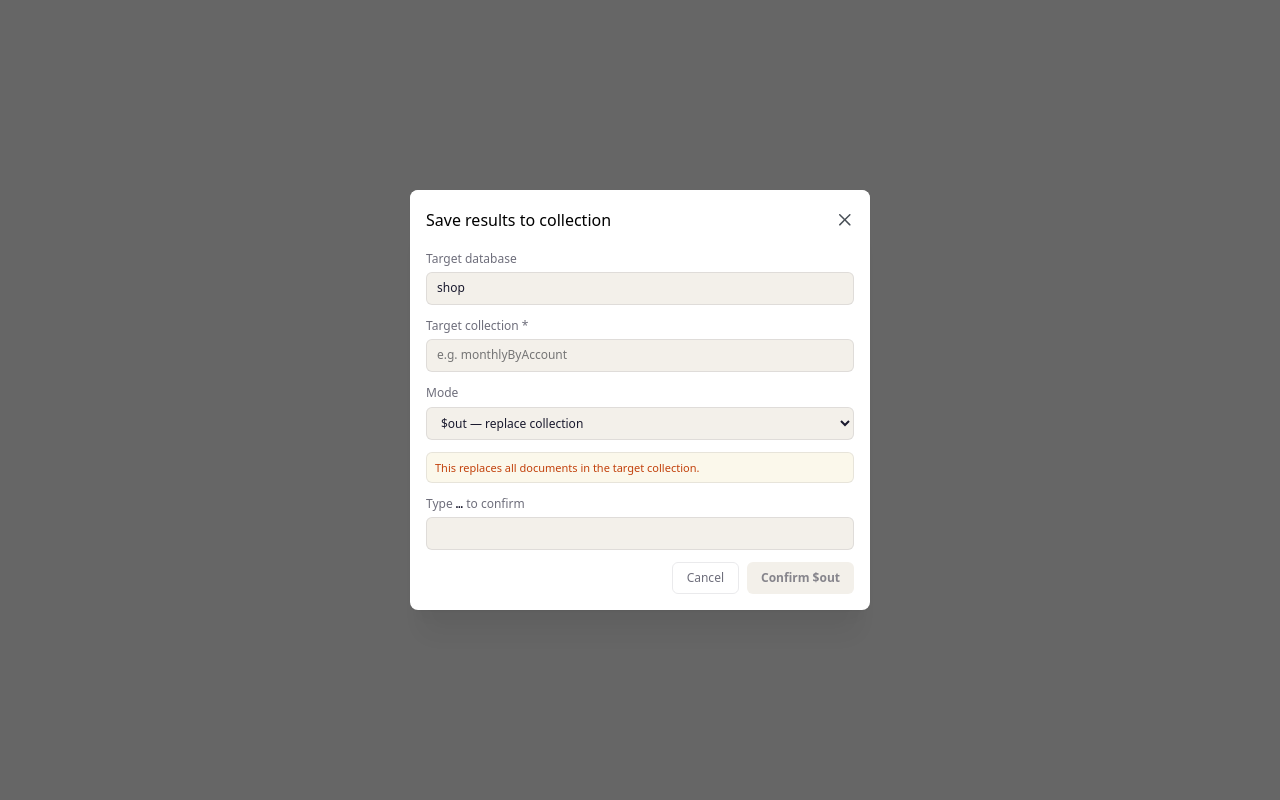
Scenario: SaveAsCollectionModal — dialog shell + guard (X15 T6) › Escape with a typed target prompts, and Cancel leaves the text intact
Type "monthlyByAccount" into the field labelled "Target collection *".
click(640, 356); type("monthlyByAccount")  # box top-left (426, 339), bottom-right (854, 372)
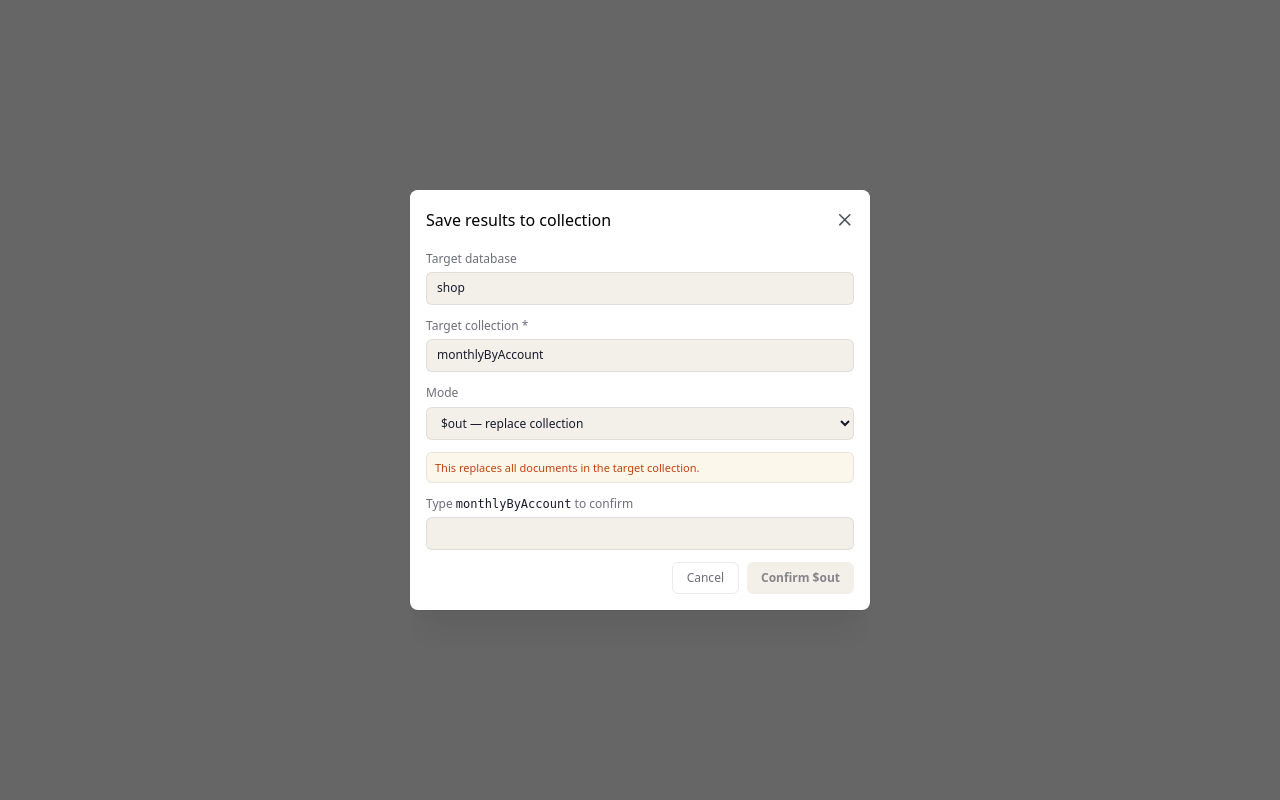
Press Escape
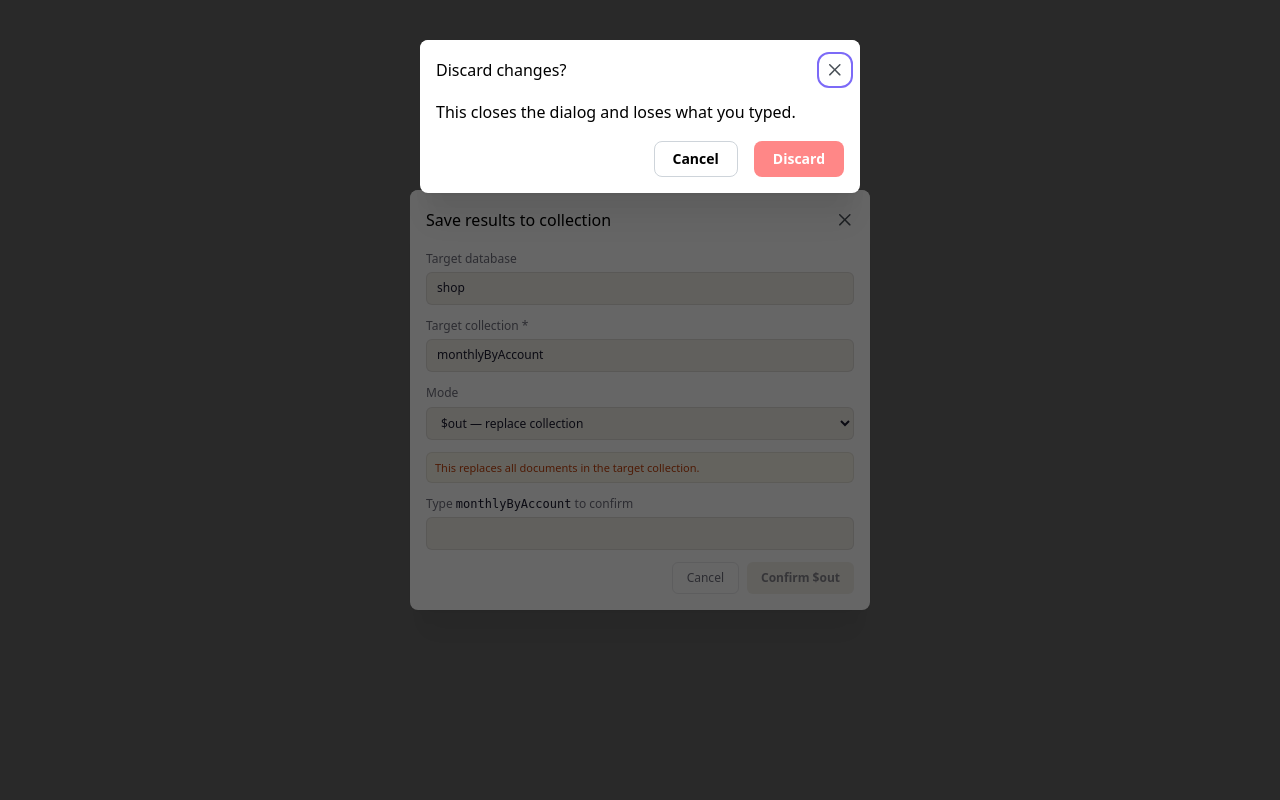
Click the button "Cancel".
click(696, 159)  # box top-left (654, 141), bottom-right (738, 177)
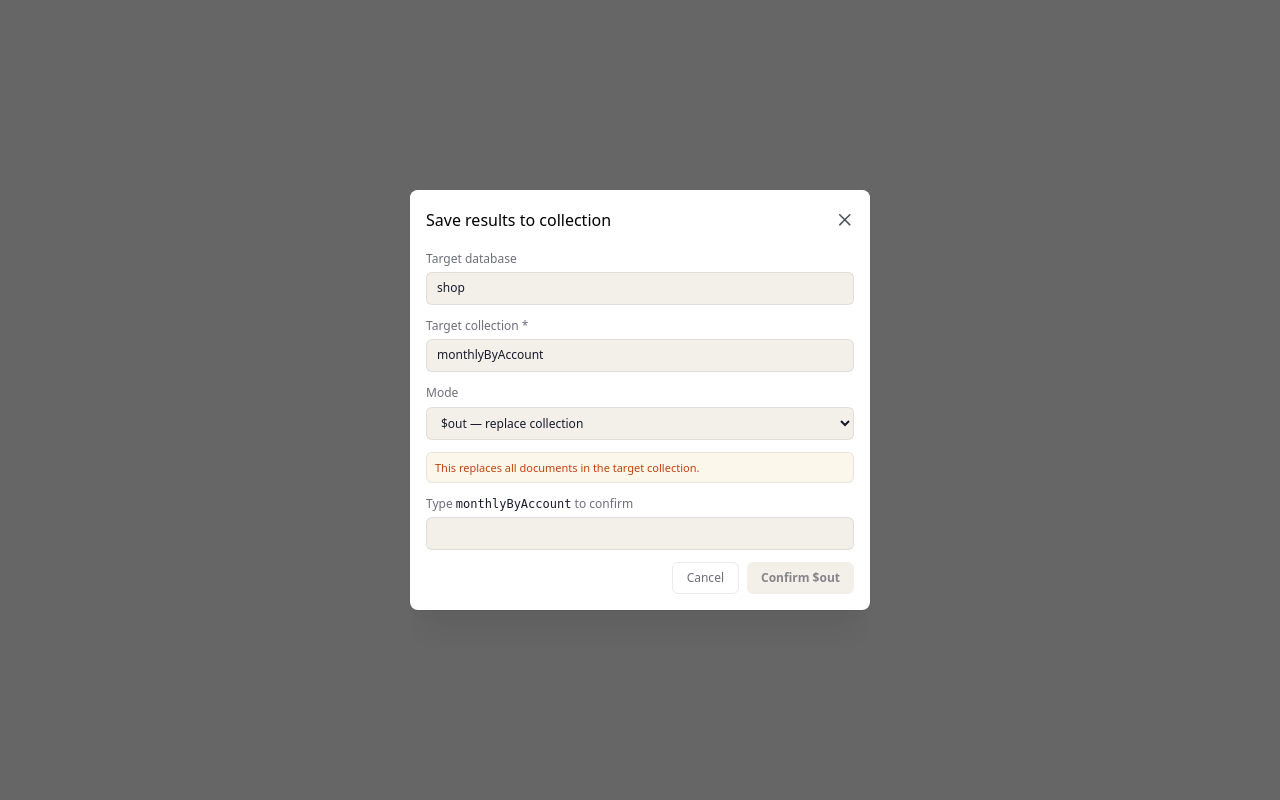
Check: the heading "Discard changes?" is gone
